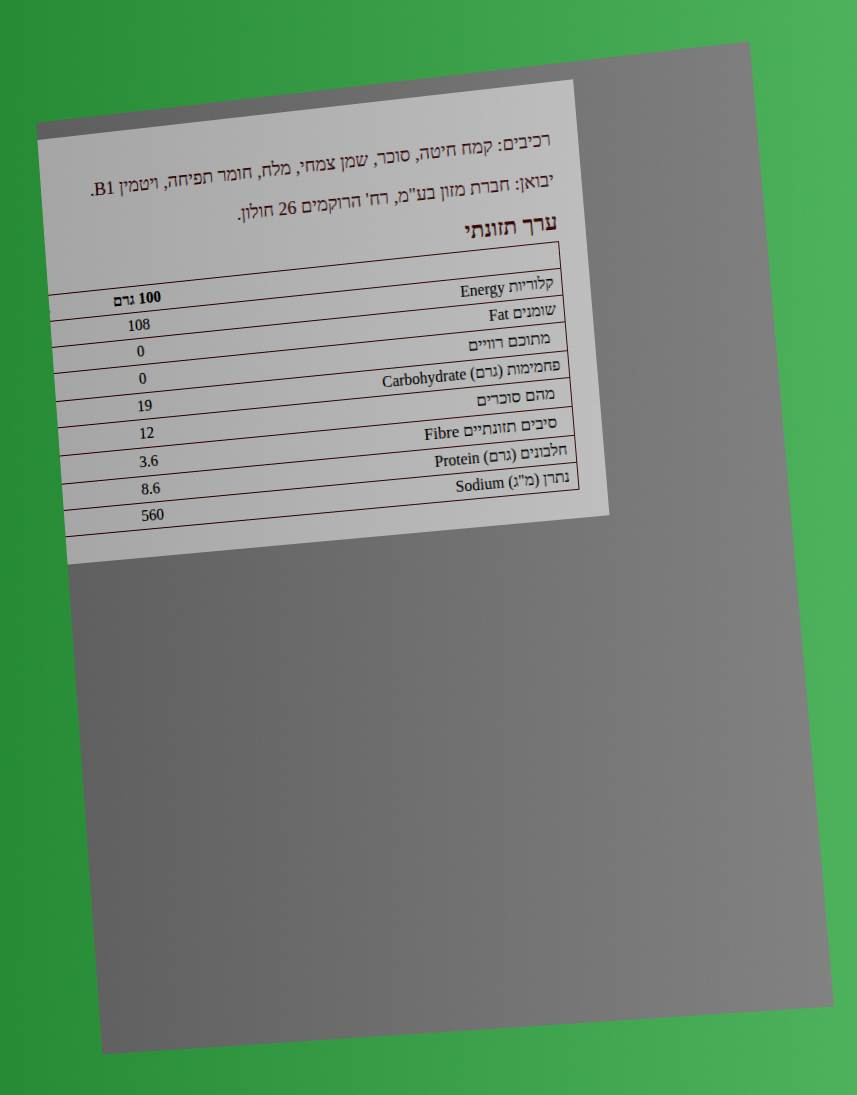carbs: (134, 394, 155, 417)
energy: (125, 313, 153, 336)
fat: (134, 340, 147, 362)
protein: (139, 477, 163, 500)
